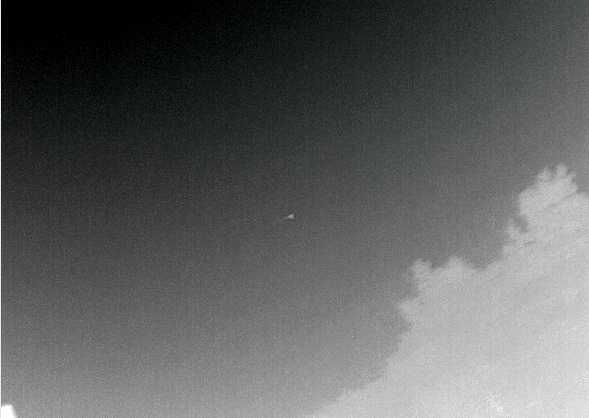dim target: (286, 213, 295, 220)
